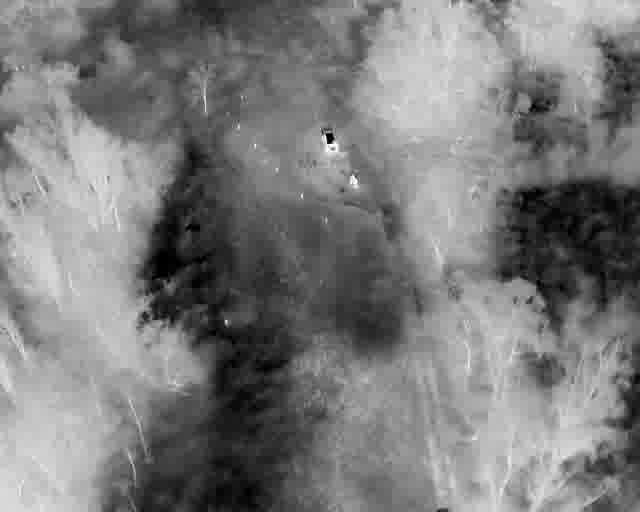car: (316, 149, 324, 156), (319, 142, 327, 149), (296, 233, 302, 241)
person: (303, 238, 307, 245), (322, 153, 324, 158), (319, 156, 321, 160), (317, 156, 319, 159), (319, 154, 321, 157)
